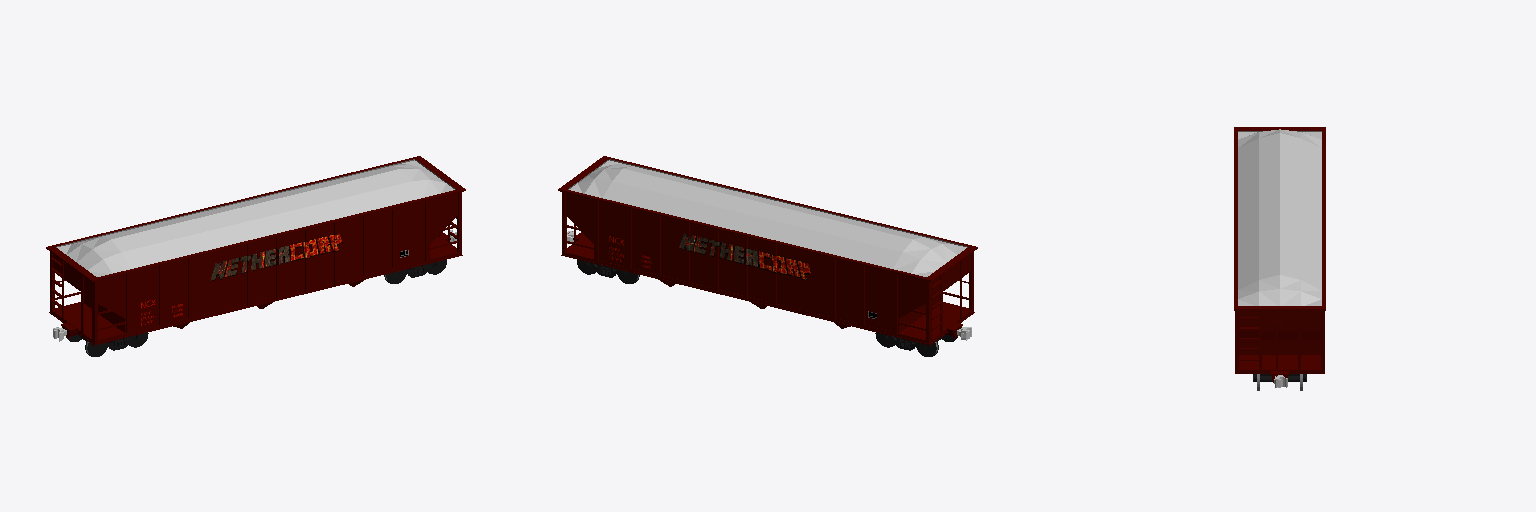
The picture shows the model from 3 angles: view 1: azimuth 30°, elevation 25°; view 2: azimuth 150°, elevation 25°; view 3: azimuth 270°, elevation 25°; orthographic projection.
Visible parts, largest first — view 1: FRAME_hopper_SHELL_hopper, CARGO_FILL_50; view 2: FRAME_hopper_SHELL_hopper, CARGO_FILL_50; view 3: CARGO_FILL_50, FRAME_hopper_SHELL_hopper.
Boxes of the visible parts, x1=… form: FRAME_hopper_SHELL_hopper: x1=46, y1=156, x2=465, y2=345; CARGO_FILL_50: x1=57, y1=160, x2=454, y2=276; FRAME_hopper_SHELL_hopper: x1=558, y1=156, x2=977, y2=345; CARGO_FILL_50: x1=569, y1=160, x2=966, y2=276; CARGO_FILL_50: x1=1238, y1=129, x2=1321, y2=305; FRAME_hopper_SHELL_hopper: x1=1234, y1=127, x2=1325, y2=373.
Size of the model in its own units: 16.3 by 4.02 by 3.22.
Materials: 3 (1 with a texture image).